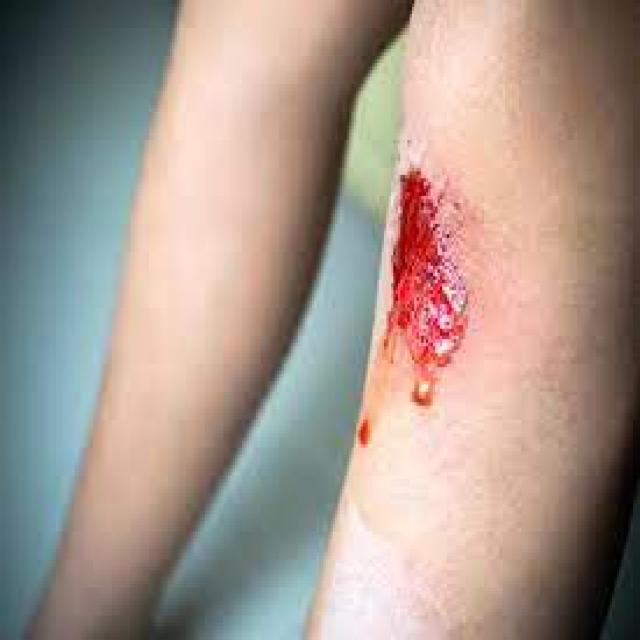Cut: (390, 158, 476, 416)
